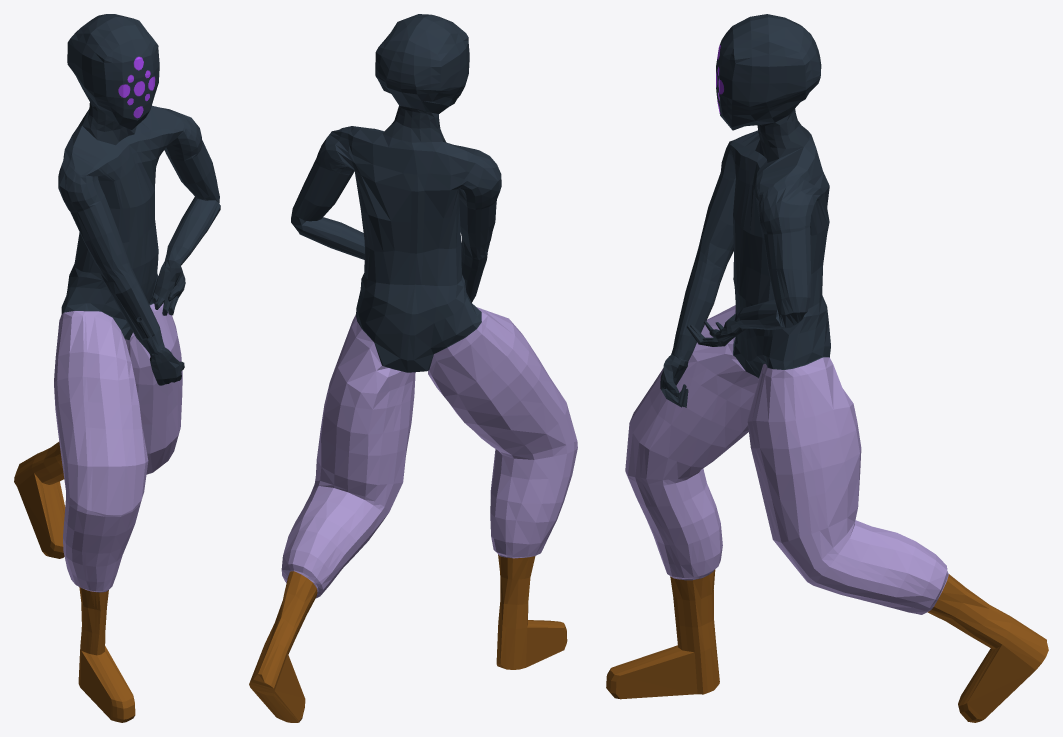
File: Oracle_Run_000012.obj
The picture shows the model from 3 angles, left to right: view 1: azimuth 30°, elevation 25°; view 2: azimuth 150°, elevation 25°; view 3: azimuth 270°, elevation 25°; orthographic projection. The views are drawn at different scales.
Visible parts, largest first — view 1: Cube; view 2: Cube; view 3: Cube.
Part boxes in pixels (bbox=[...]): Cube: bbox=[14, 14, 220, 722]; Cube: bbox=[249, 14, 577, 722]; Cube: bbox=[606, 14, 1048, 722].
Size of the model in its own units: 1.29 by 3.76 by 2.13.
